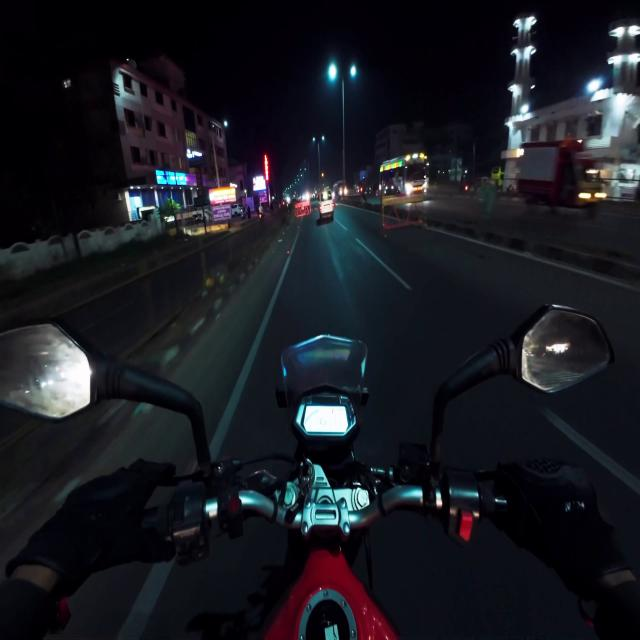car: (319, 188, 334, 219)
motorcycle: (0, 307, 613, 639)
